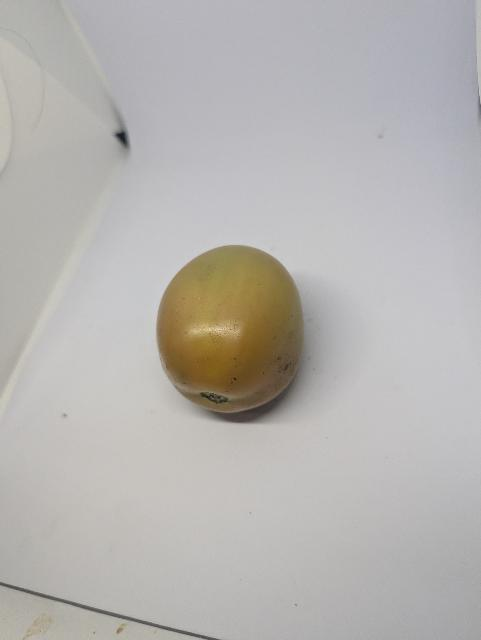breaker: (153, 240, 310, 416)
